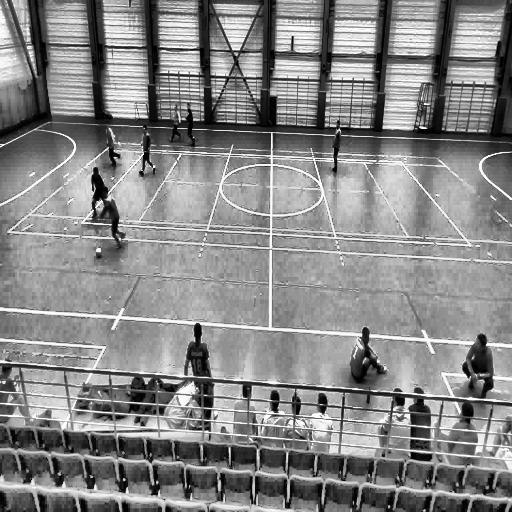ball: (94, 246, 104, 259)
player: (100, 185, 125, 253), (88, 164, 112, 219), (138, 122, 156, 178), (104, 120, 121, 169), (330, 119, 342, 176), (169, 104, 183, 144), (185, 105, 196, 148)
